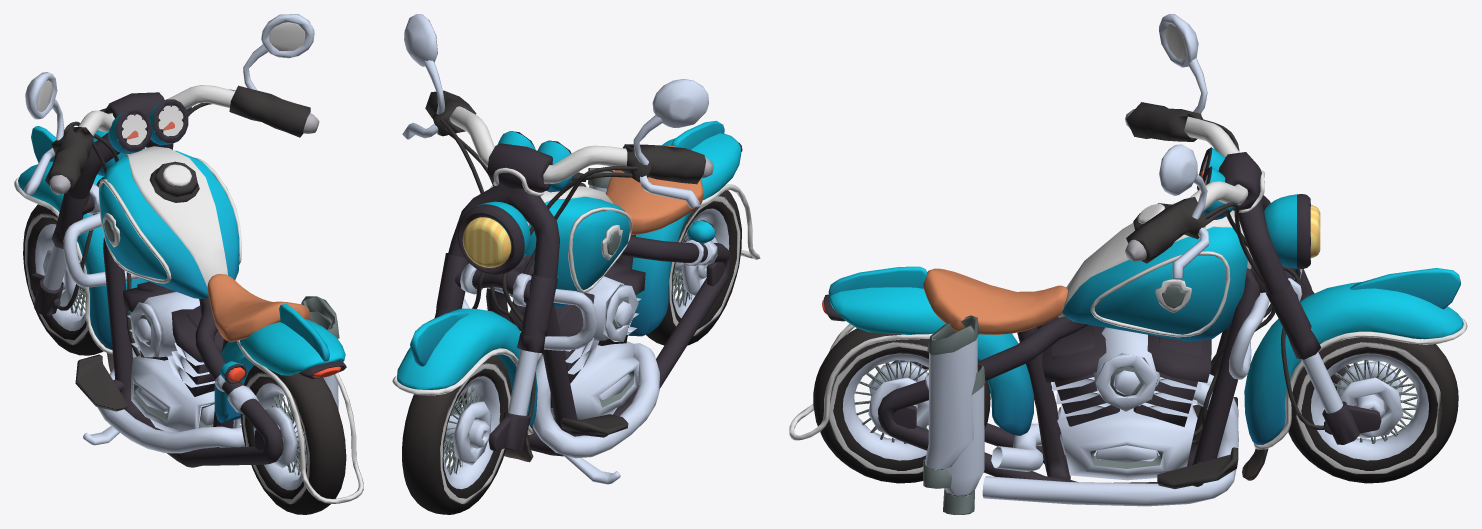
Rendered from MOTORCYCLE.glb.
The picture shows the model from 3 angles, left to right: view 1: azimuth 30°, elevation 25°; view 2: azimuth 150°, elevation 25°; view 3: azimuth 270°, elevation 25°; orthographic projection. The views are drawn at different scales.
Parts seen in each view (by area): view 1: body_Material.076, body_FireCar.001, body_Material.029, body_Moto 2.002, body_Ruchki.001, body_paint, RL_Mishelin, body_Leather, FL_Mishelin, body_Moto 2, RL_Material.076, FL_Material.076 (+6 smaller); view 2: body_FireCar.001, body_Material.076, body_paint, FL_Mishelin, body_Ruchki.001, body_Material.029, body_Moto 2.002, body_Moto 2, FL_Material.076, body_Leather, RL_Mishelin, body_Material.078 (+4 smaller); view 3: body_Material.076, body_FireCar.001, body_paint, body_Moto 2.002, body_Material.029, FL_Mishelin, body_Ruchki.001, RL_Mishelin, body_Moto 2, FL_Material.076, body_Leather, RL_Material.076 (+3 smaller).
Part boxes in pixels (<box>): body_Material.076: <box>24,14,338,466</box>; body_FireCar.001: <box>30,92,346,467</box>; body_Material.029: <box>14,85,363,503</box>; body_Moto 2.002: <box>99,150,239,298</box>; body_Ruchki.001: <box>45,85,310,411</box>; body_paint: <box>18,161,345,423</box>; RL_Mishelin: <box>240,365,346,514</box>; body_Leather: <box>207,274,309,342</box>; FL_Mishelin: <box>23,204,103,355</box>; body_Moto 2: <box>31,103,329,382</box>; RL_Material.076: <box>253,383,306,490</box>; FL_Material.076: <box>35,224,85,331</box>; body_FireCar.001: <box>434,131,742,456</box>; body_Material.076: <box>402,14,717,484</box>; body_paint: <box>397,133,741,427</box>; FL_Mishelin: <box>402,352,511,514</box>; body_Ruchki.001: <box>425,90,705,435</box>; body_Material.029: <box>392,106,760,434</box>; body_Moto 2.002: <box>509,196,629,307</box>; body_Moto 2: <box>410,120,724,366</box>; FL_Material.076: <box>443,376,500,489</box>; body_Leather: <box>606,145,703,234</box>; RL_Mishelin: <box>646,190,741,345</box>; body_Material.078: <box>462,217,511,267</box>; body_Material.076: <box>925,14,1343,506</box>; body_FireCar.001: <box>823,147,1381,486</box>; body_paint: <box>829,282,1463,444</box>; body_Moto 2.002: <box>1062,226,1247,341</box>; body_Material.029: <box>789,116,1467,449</box>; FL_Mishelin: <box>1288,337,1458,483</box>; body_Ruchki.001: <box>1126,102,1324,488</box>; RL_Mishelin: <box>813,328,990,483</box>; body_Moto 2: <box>828,148,1460,309</box>; FL_Material.076: <box>1311,353,1428,460</box>; body_Leather: <box>923,268,1067,334</box>; RL_Material.076: <box>842,353,928,460</box>.
Size of the model in its own units: 1.32 by 1.73 by 2.52.
Materials: 17 (5 with a texture image).
